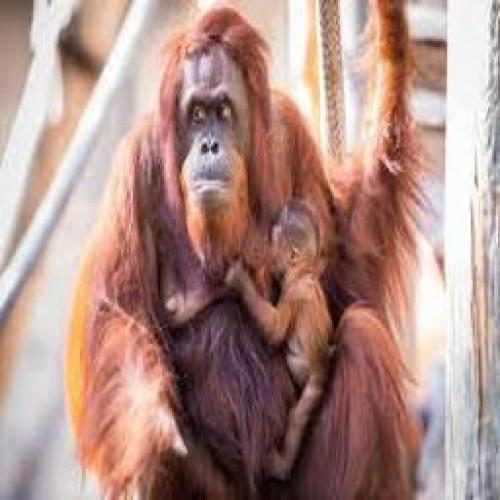orangutan-endangered: (66, 0, 421, 500), (226, 199, 334, 479)
